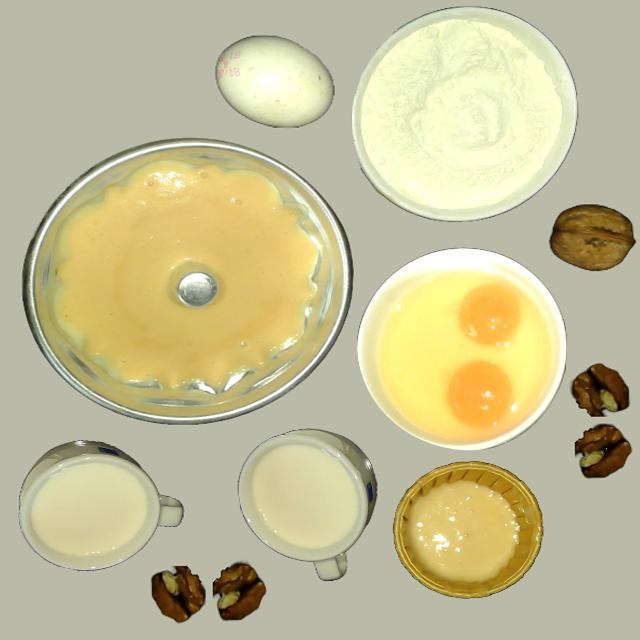Egg: (448, 362, 512, 423), (459, 288, 520, 343)
Flour: (352, 7, 579, 224)
Milk: (236, 429, 377, 583), (18, 441, 180, 575)
Walnut: (549, 205, 637, 274)
